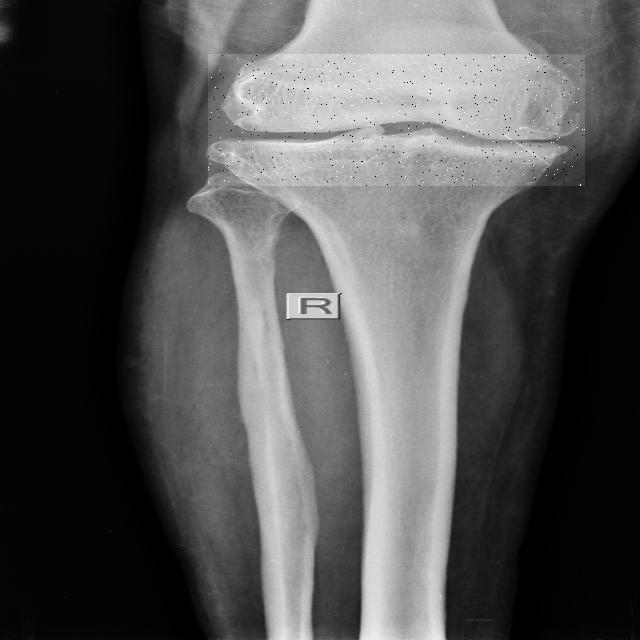normal: (208, 54, 585, 186)
